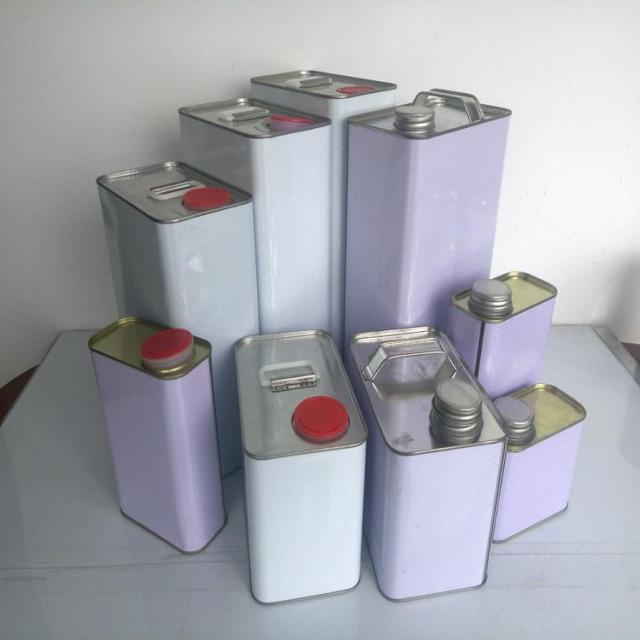metel: (183, 110, 342, 426), (100, 175, 260, 447), (352, 117, 493, 368), (236, 334, 372, 586), (355, 336, 491, 585), (92, 319, 222, 555), (257, 81, 397, 300), (451, 286, 563, 528)
